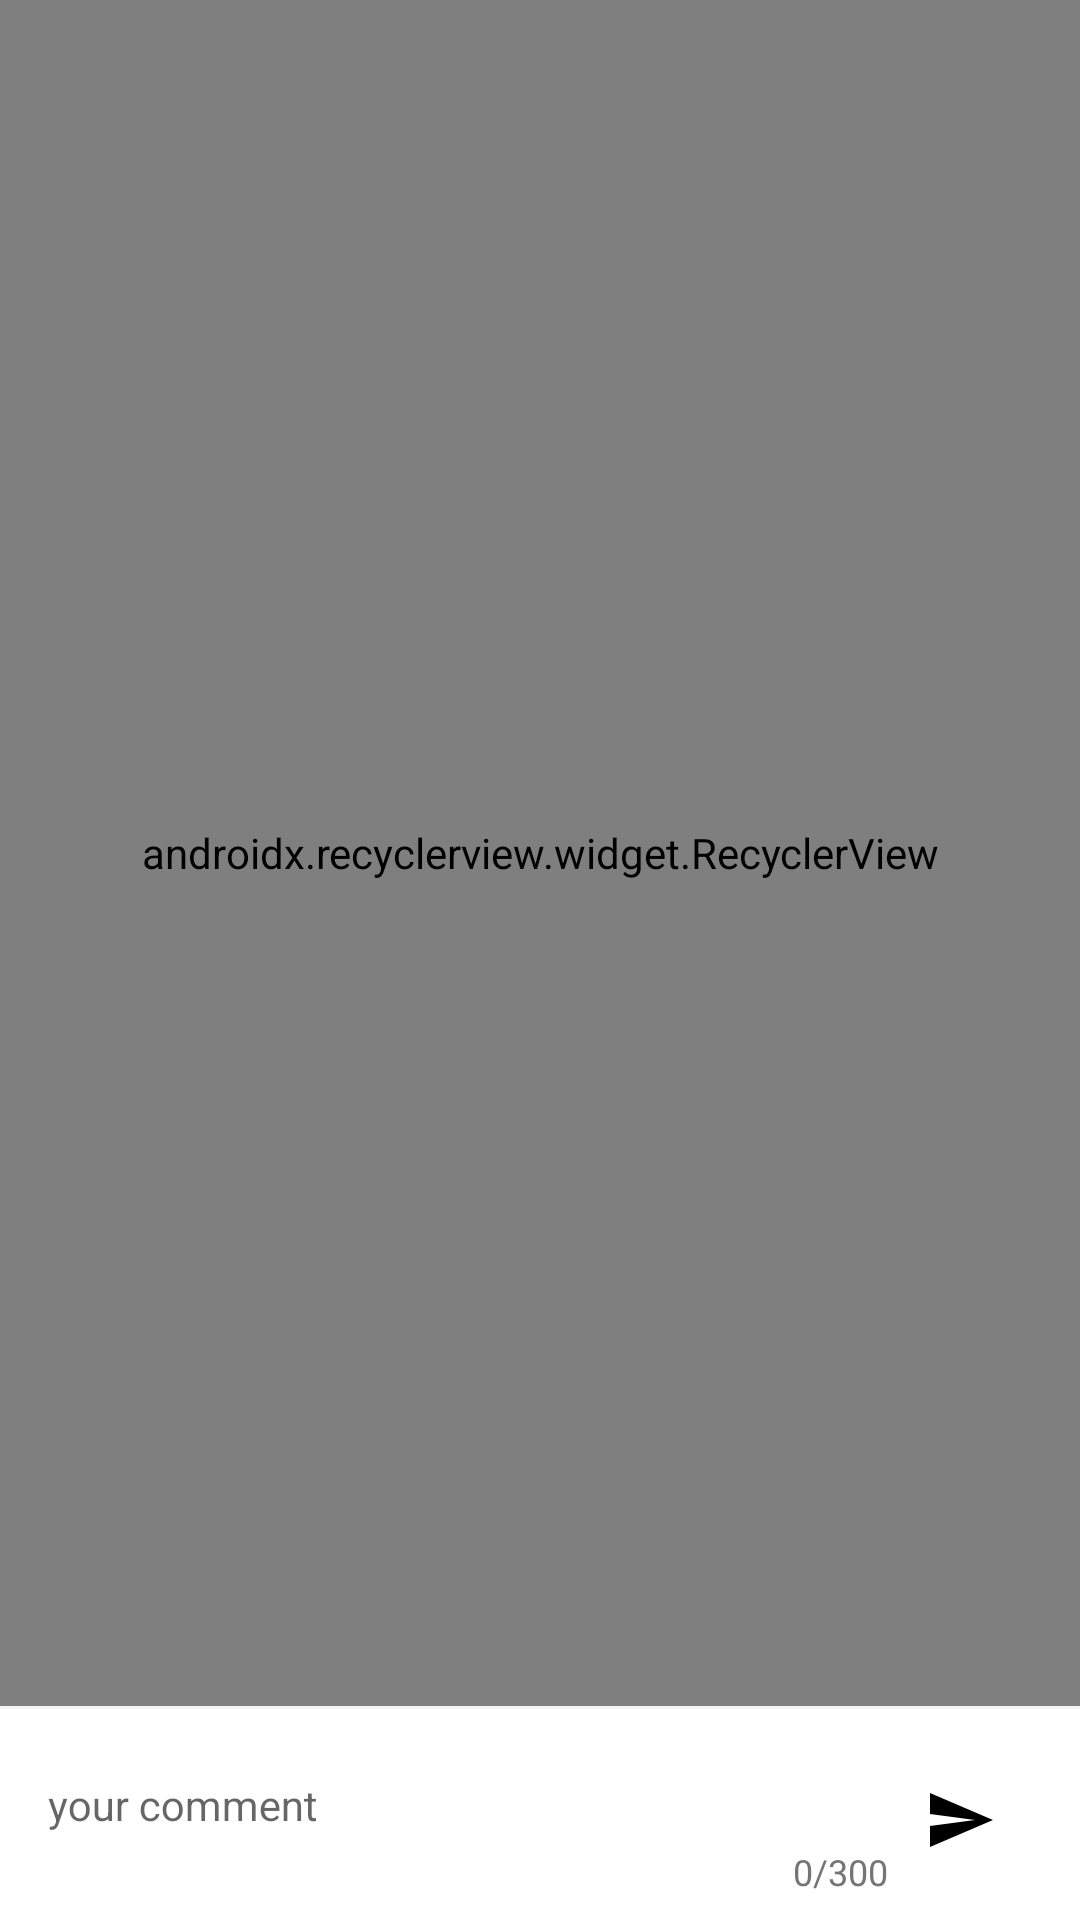

Where icons sit on this 1080x1920 app screen, as [x1=x1, y1=y1, x2=x2, y2=y2]:
send: [x1=930, y1=1793, x2=993, y2=1847]
